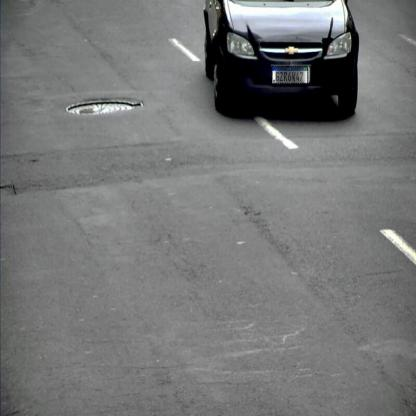PlacaM: (272, 66, 308, 84)
